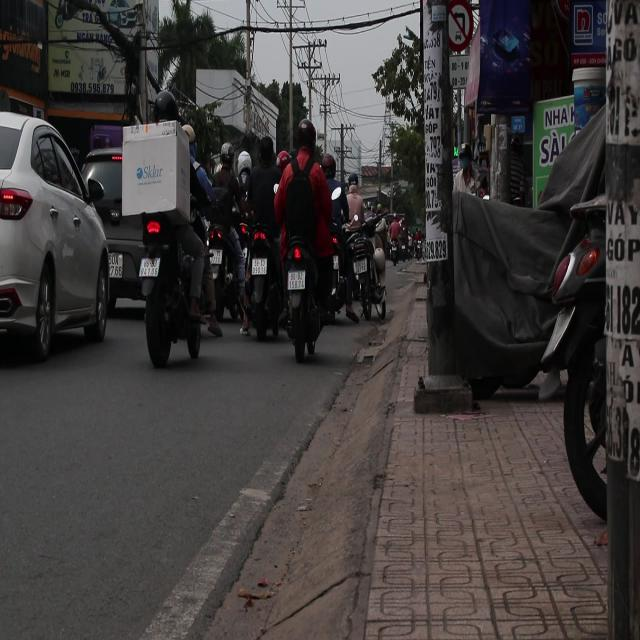car: (2, 109, 112, 366), (81, 151, 123, 227)
motorbike: (128, 212, 221, 382), (273, 225, 319, 376), (238, 230, 288, 350), (200, 218, 244, 336), (349, 218, 398, 315)
